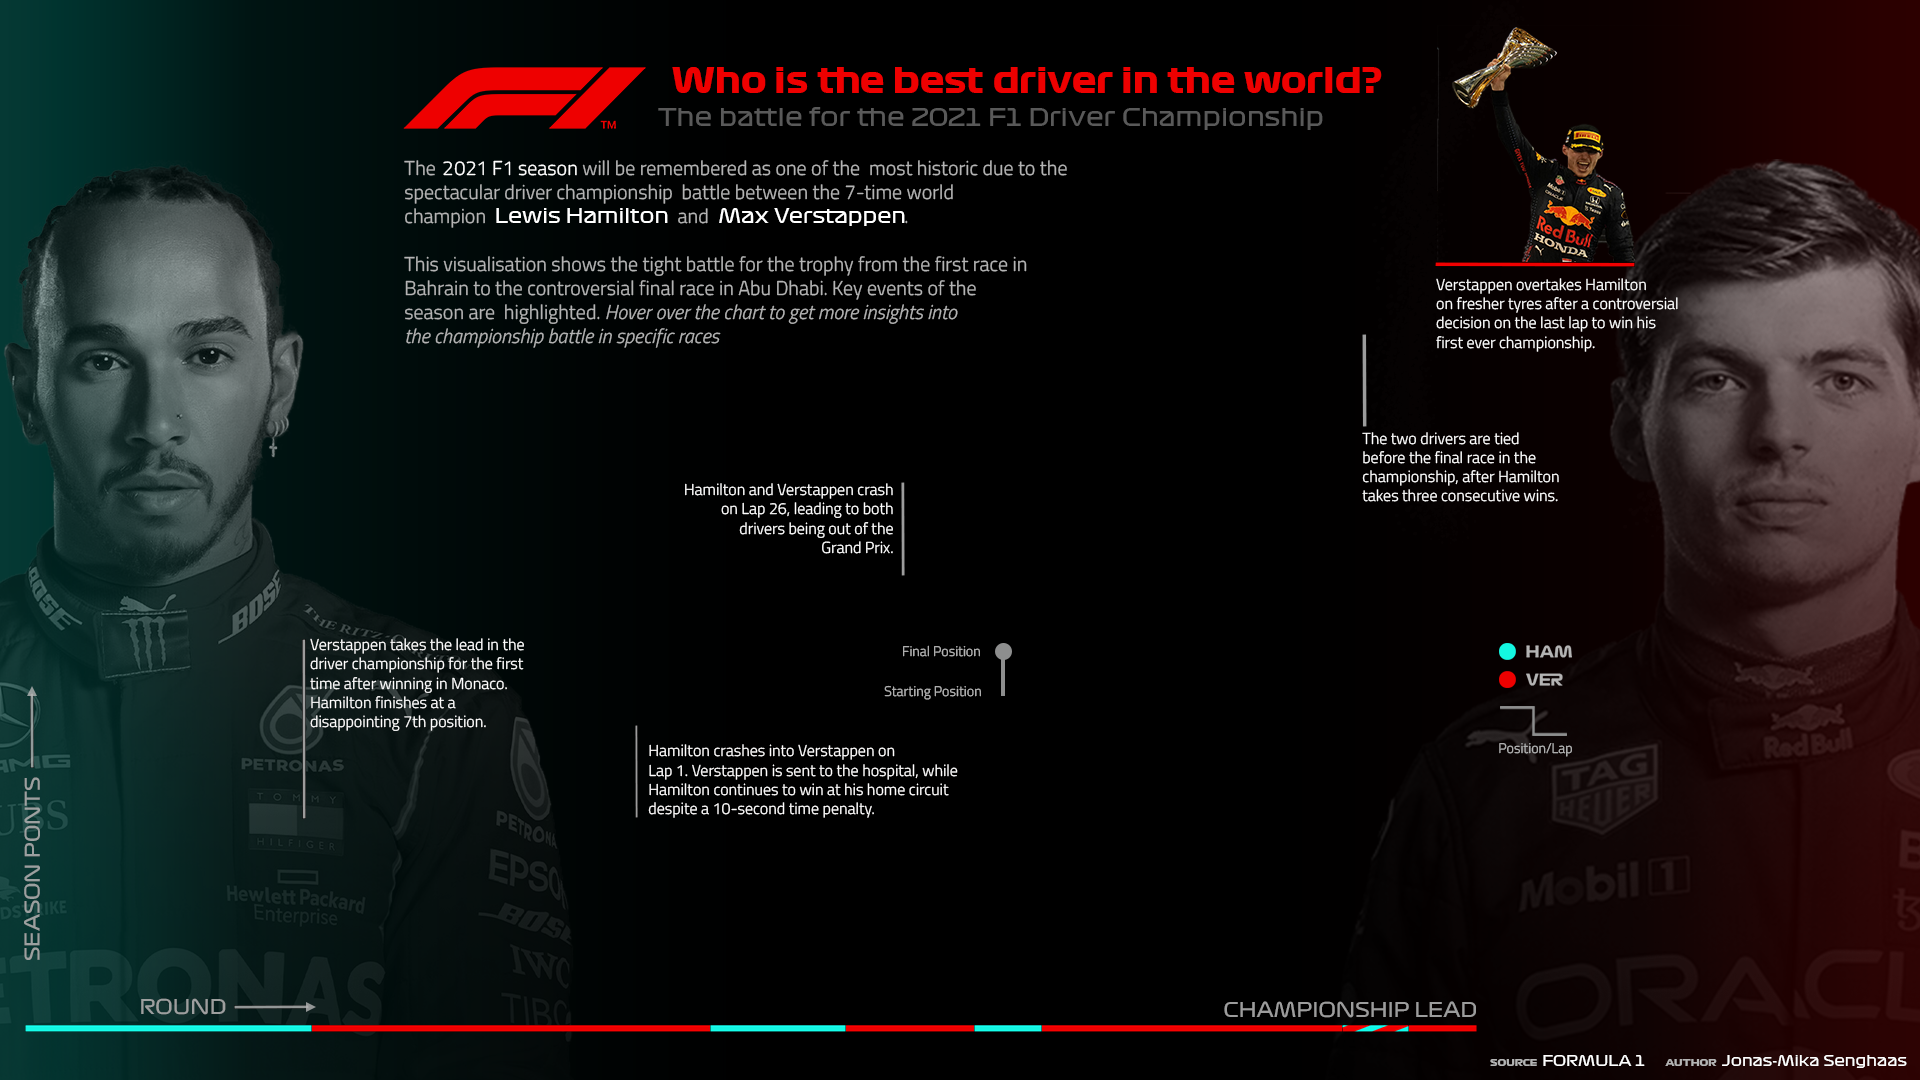

The page's visual inventory and layout, read from the dashboard file:
{"tool":"tableau","page":{"name":"Dashboard","canvas":[1920,1080],"ordinal":0},"visuals":[{"type":"image","param":"/Users/jonas-mika/programming/itu/semester4/viz/project/f1/images/bg/bg.png","box":[8,8,1904,1064]},{"type":"worksheet","title":"Points over Season","mark":"Line","rows":["Total Points"],"cols":["Round"],"box":[28,231,1425,824]},{"type":"worksheet","title":"Current Track Country Flag","mark":"Shape","box":[1357,530,138,78]},{"type":"worksheet","title":"Current Race","mark":"Automatic","box":[1110,537,277,67]},{"type":"worksheet","title":"Race Performance","mark":"Automatic","rows":["Position"],"cols":["Lap"],"box":[1112,606,353,371]},{"type":"text","box":[1039,624,100,30]},{"type":"worksheet","title":"Race Performance (Start/Final)","mark":"Circle","rows":["Final Position","Final Position"],"cols":["Round","Driver Code"],"box":[1006,640,96,279]},{"type":"worksheet","title":"Current Track Layout","mark":"Shape","box":[1587,640,282,284]},{"type":"text","box":[1036,903,100,30]}]}

Visuals, with their boxes in screenshot pixels (x1, y1, x2, y2), scaled from the page's 1920x1080 canvas onto the 1920x1080 screenshot:
image: pyautogui.locateOnScreen(8, 8, 1912, 1072)
"Points over Season" worksheet (Line marks): pyautogui.locateOnScreen(28, 231, 1453, 1055)
"Current Track Country Flag" worksheet (Shape marks): pyautogui.locateOnScreen(1357, 530, 1495, 608)
"Current Race" worksheet: pyautogui.locateOnScreen(1110, 537, 1387, 604)
"Race Performance" worksheet: pyautogui.locateOnScreen(1112, 606, 1465, 977)
text: pyautogui.locateOnScreen(1039, 624, 1139, 654)
"Race Performance (Start/Final)" worksheet (Circle marks): pyautogui.locateOnScreen(1006, 640, 1102, 919)
"Current Track Layout" worksheet (Shape marks): pyautogui.locateOnScreen(1587, 640, 1869, 924)
text: pyautogui.locateOnScreen(1036, 903, 1136, 933)
